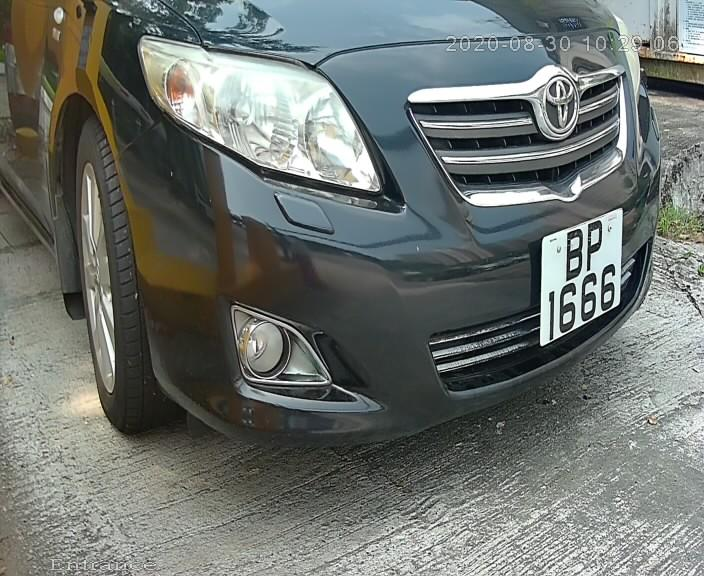License Plate: (532, 206, 626, 348)
